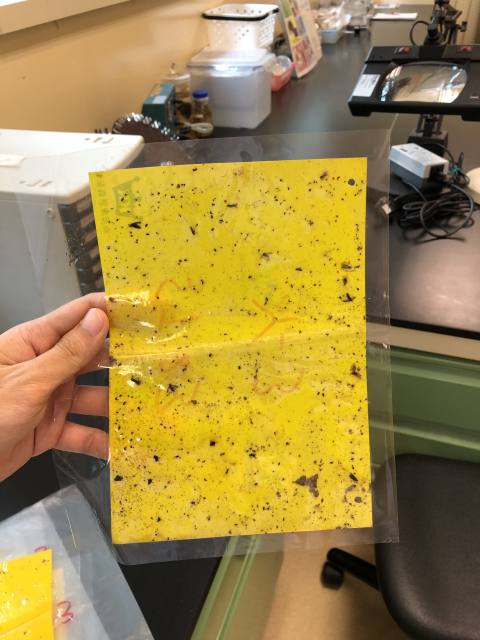DBM: (339, 262, 354, 271)
